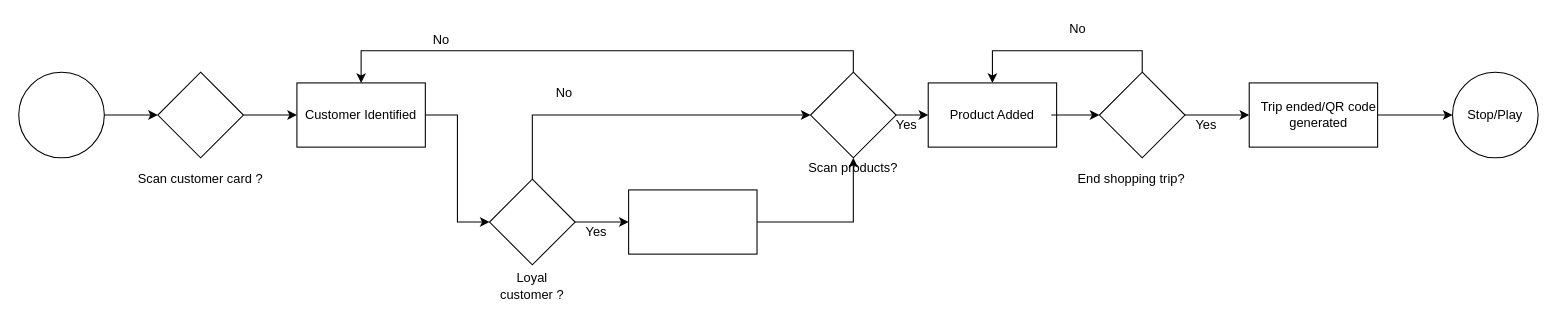
This 1557x320 diagram has some shape labels left out. Here are the shapes that lost their labels. From the top down, the box of each, then its label:
(18, 71, 104, 158): Start/ Open App
(628, 189, 757, 254): Apply 5% discount
